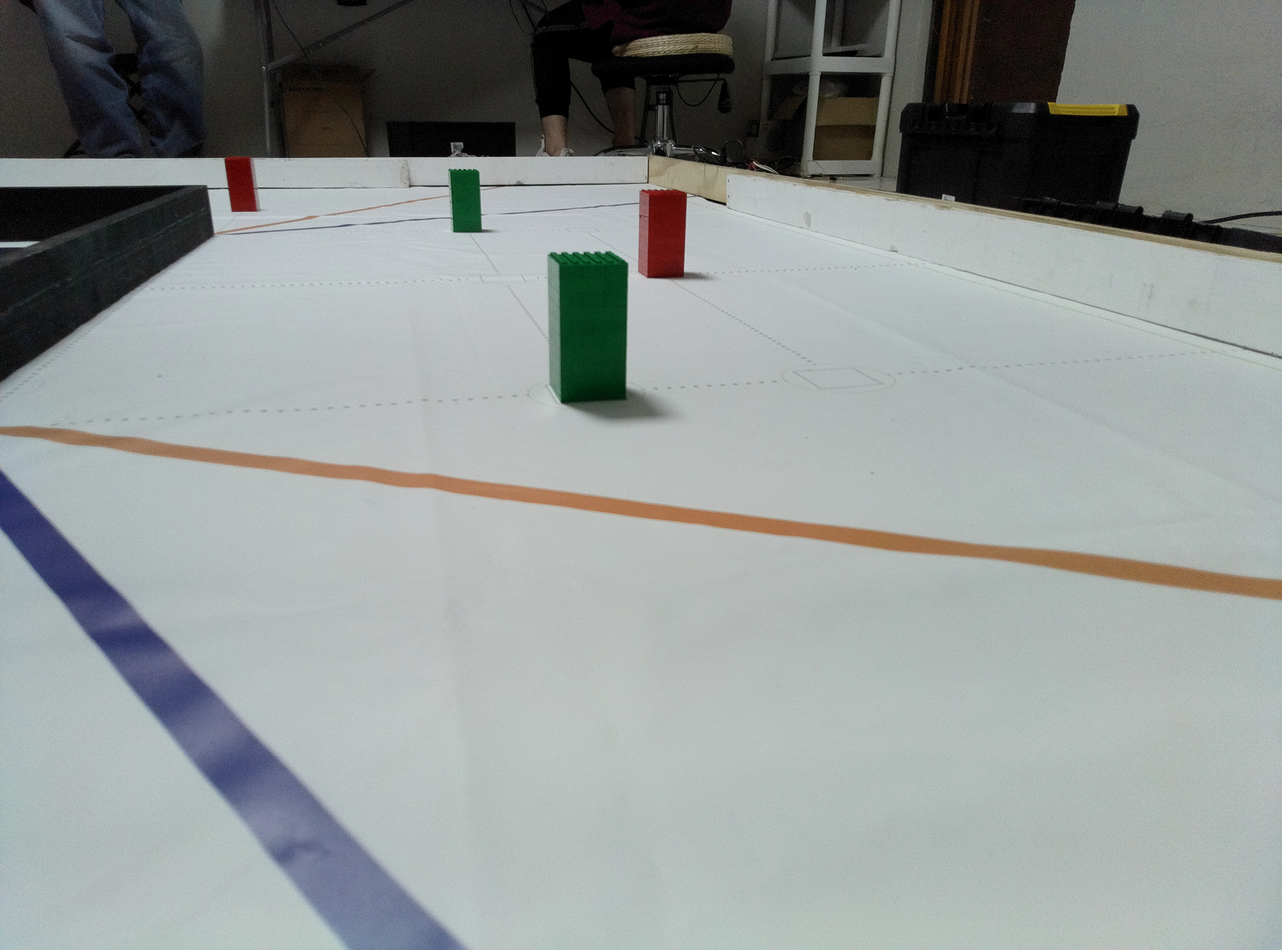greenbox: (550, 248, 630, 401), (449, 170, 482, 232)
redbox: (637, 191, 685, 276), (225, 156, 261, 213)
